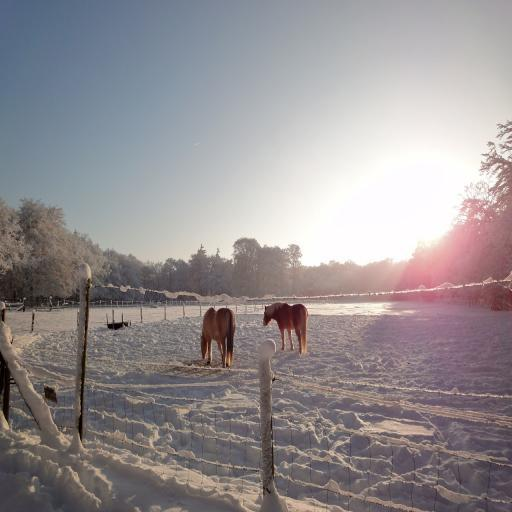horse: (262, 304, 310, 354), (198, 305, 236, 368)
